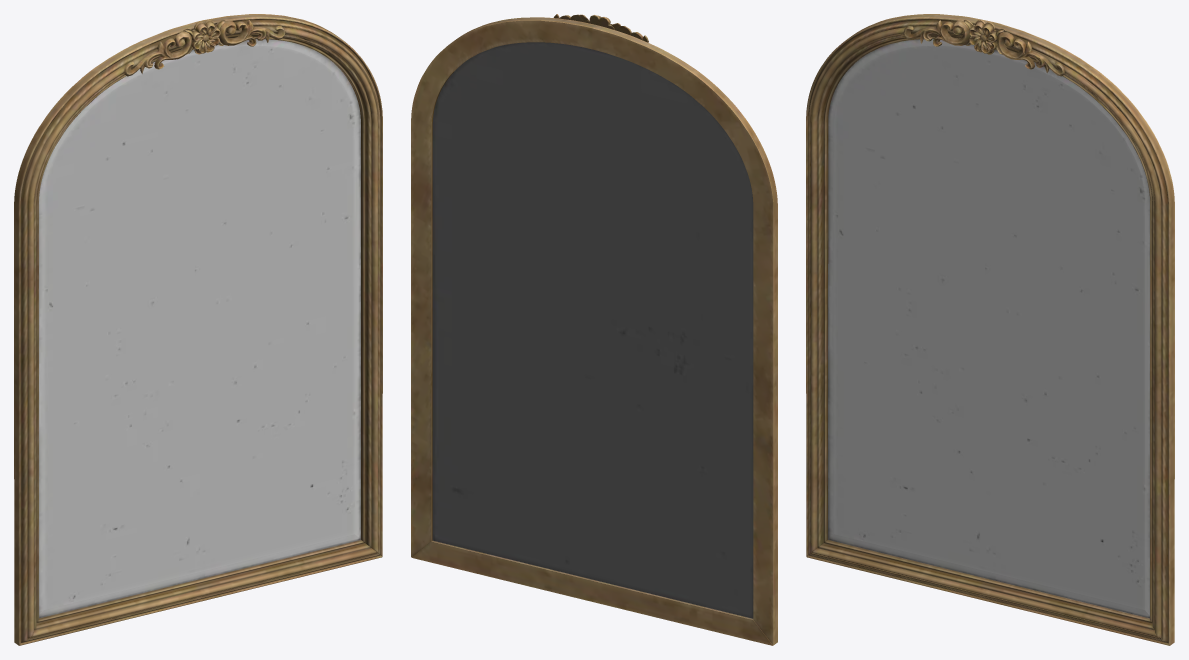
Rendered from mirror-ornate.glb.
3 renders of one model, left to right at view 1: azimuth 30°, elevation 25°; view 2: azimuth 150°, elevation 25°; view 3: azimuth 330°, elevation 25°, orthographic.
Visible parts, largest first — view 1: ornate_mirror_01; view 2: ornate_mirror_01; view 3: ornate_mirror_01.
Boxes of the visible parts, <box> form: ornate_mirror_01: <box>14,14,382,645</box>; ornate_mirror_01: <box>411,14,777,645</box>; ornate_mirror_01: <box>806,14,1174,645</box>.
Size of the model in its own units: 0.4865 by 0.7442 by 0.026.
Materials: 1 (1 with a texture image).
